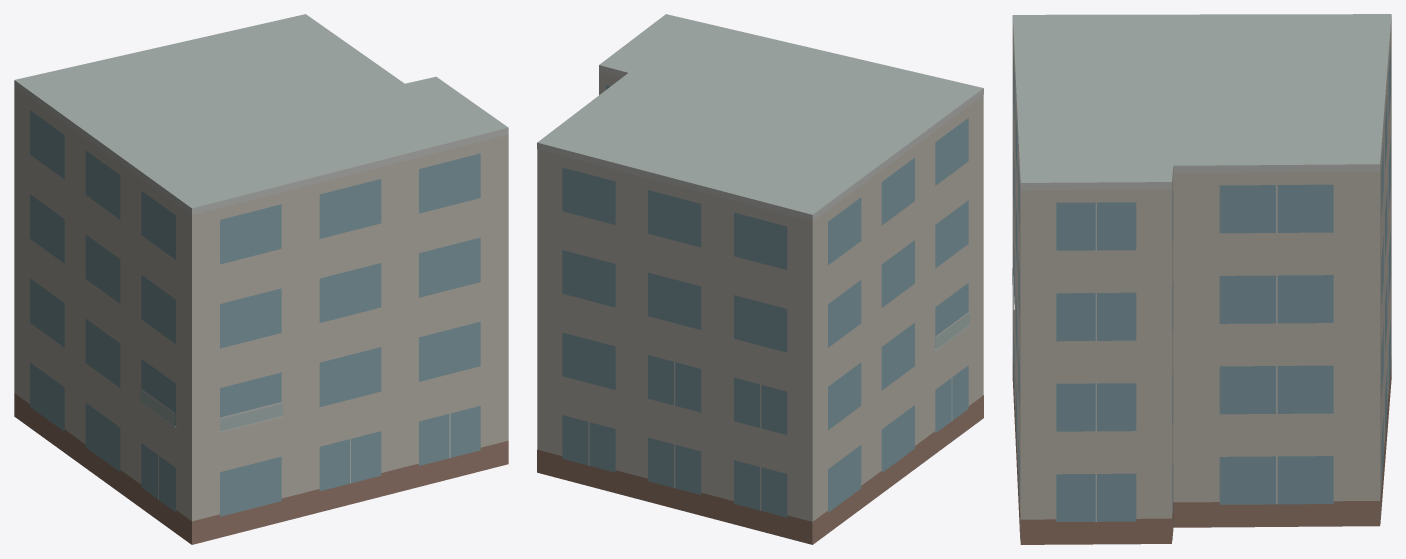
File: survey-upis-32979612.glb
The picture shows the model from 3 angles, left to right: view 1: azimuth 30°, elevation 25°; view 2: azimuth 150°, elevation 25°; view 3: azimuth 270°, elevation 25°; orthographic projection. The views are drawn at different scales.
Parts seen in each view (by area): view 1: survey-upis-32979612.tmp; view 2: survey-upis-32979612.tmp; view 3: survey-upis-32979612.tmp.
Part boxes in pixels (x1,y1,x2,y2): survey-upis-32979612.tmp: (14,14,508,544); survey-upis-32979612.tmp: (537,14,983,544); survey-upis-32979612.tmp: (1012,14,1391,544).
Bounding box in the file's own units: 12.23 × 12.2 × 11.6.
